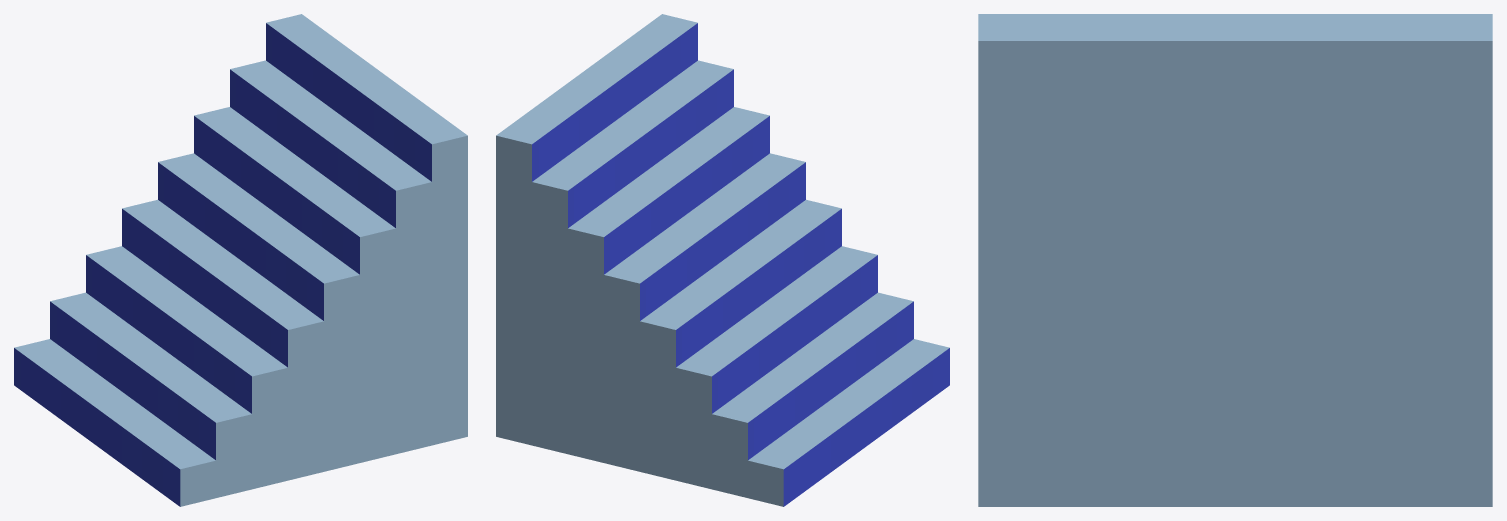
File: EspacioRedSocialEscaleraExteriorNI.gltf
3 renders of one model, left to right at view 1: azimuth 30°, elevation 25°; view 2: azimuth 150°, elevation 25°; view 3: azimuth 270°, elevation 25°, orthographic. The views are drawn at different scales.
Visible parts, largest first — view 1: Escalera; view 2: Escalera; view 3: Escalera.
Part boxes in pixels (x1,y1,x2,y2): Escalera: [14, 14, 467, 506]; Escalera: [496, 14, 949, 506]; Escalera: [978, 14, 1492, 506].
Size of the model in its own units: 2 by 2 by 2.
1 material, 1 textured.
